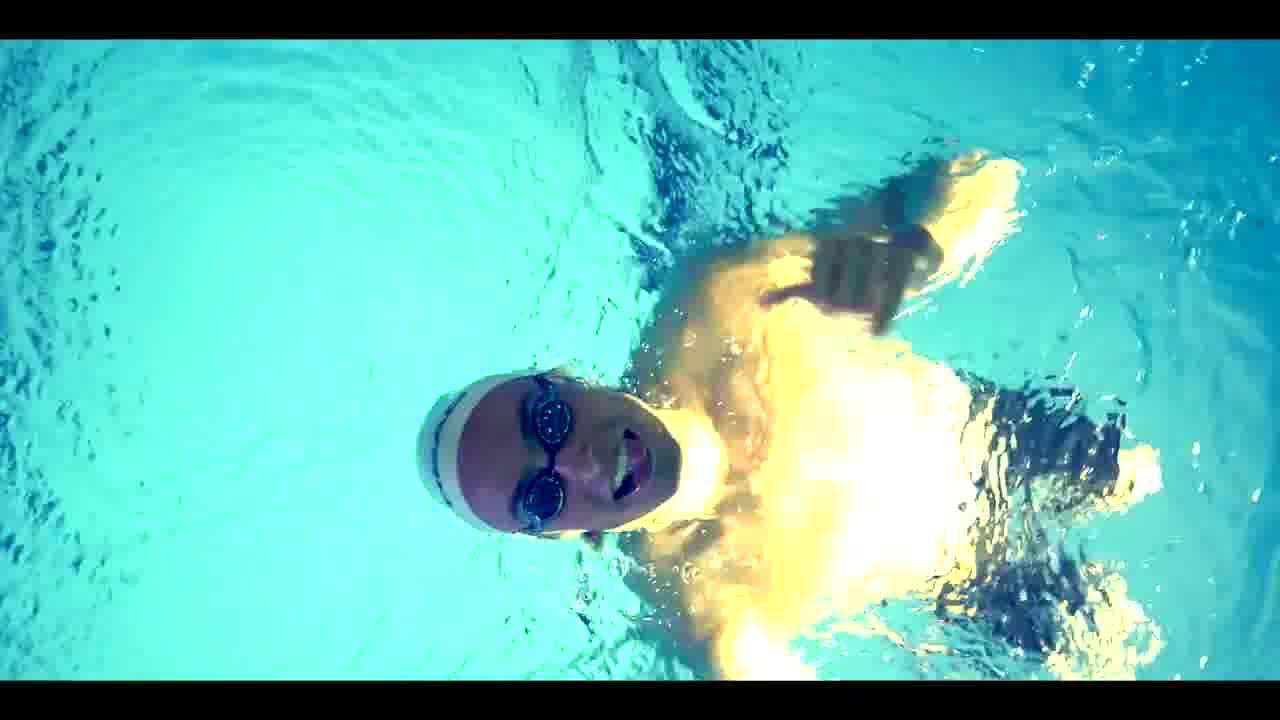human: (426, 136, 1111, 680)
